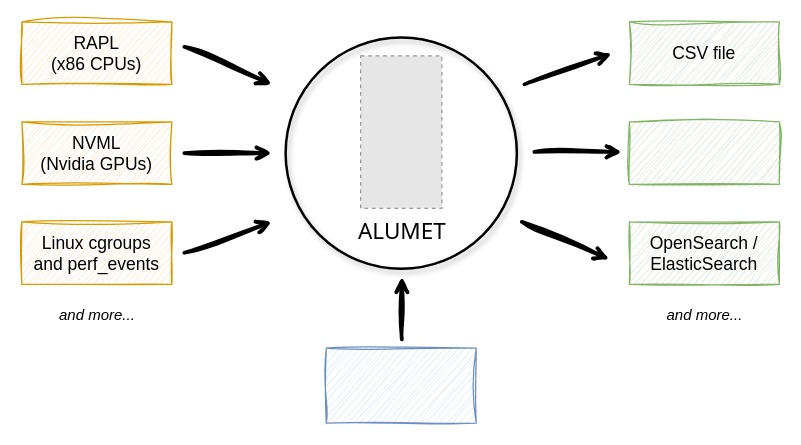
Some shapes in this 801 by 445 pixel diagram are drawn without their labels. Grey dashed boxes stand in for pictures. Each missing label, with the centre of its shape:
InfluxDB: (x=703, y=152)
∑ Mathematical models: (x=400, y=385)
